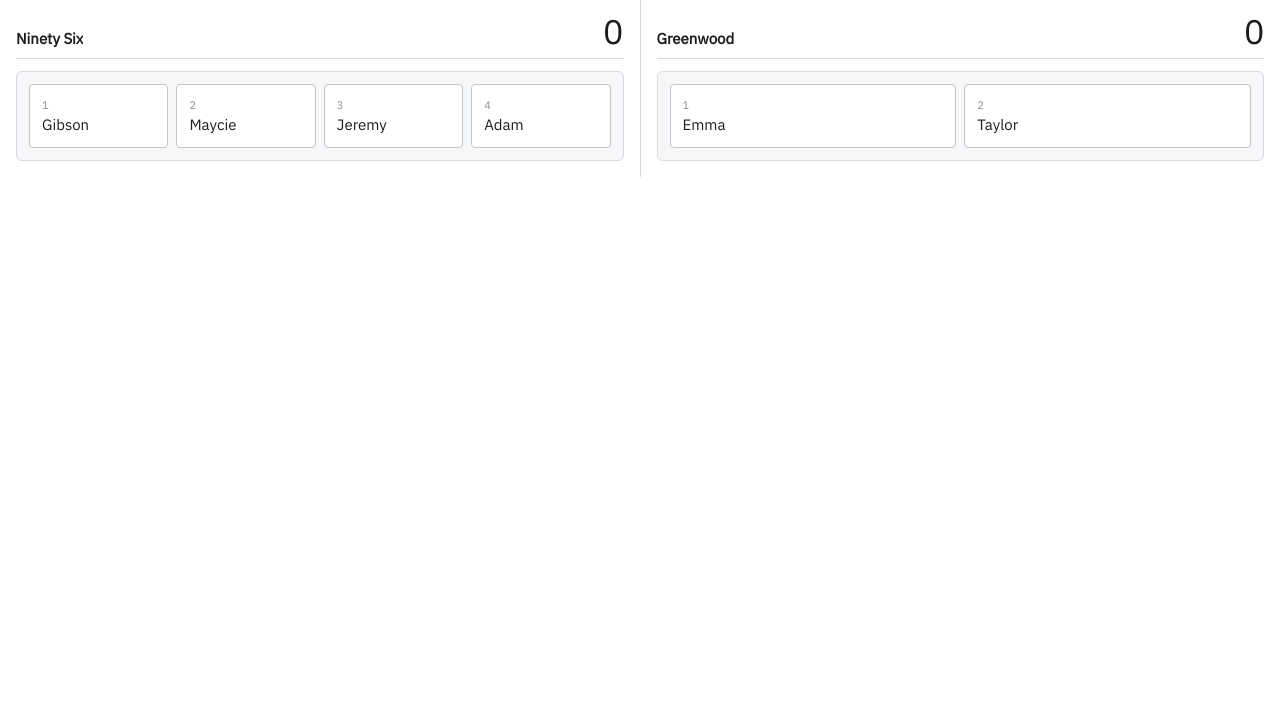
Scenario: what happens after a ruling › an accepted ruling closes the picker and marks the chair it landed in
Step 1. Click the button "2 Maycie" → [246, 116], box [176,84,316,148]
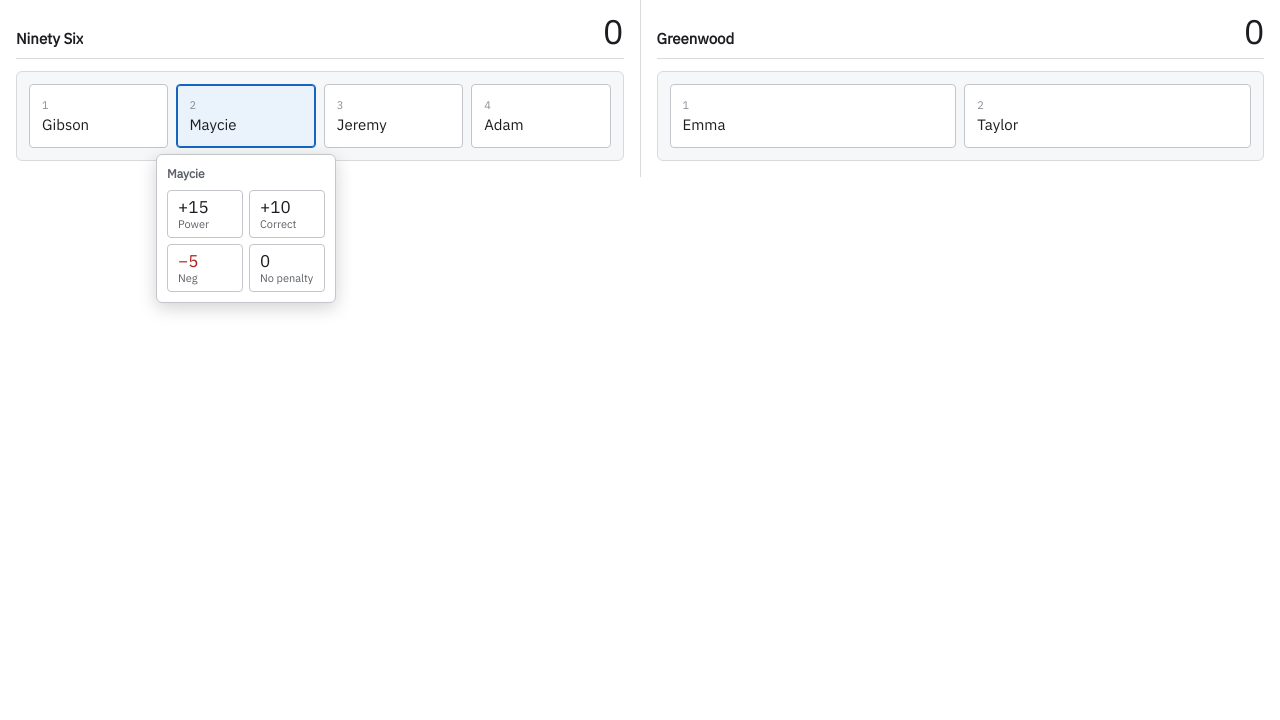
Step 2. Click the button with aria-label "Maycie 10" → [287, 214], box [249,190,325,238]
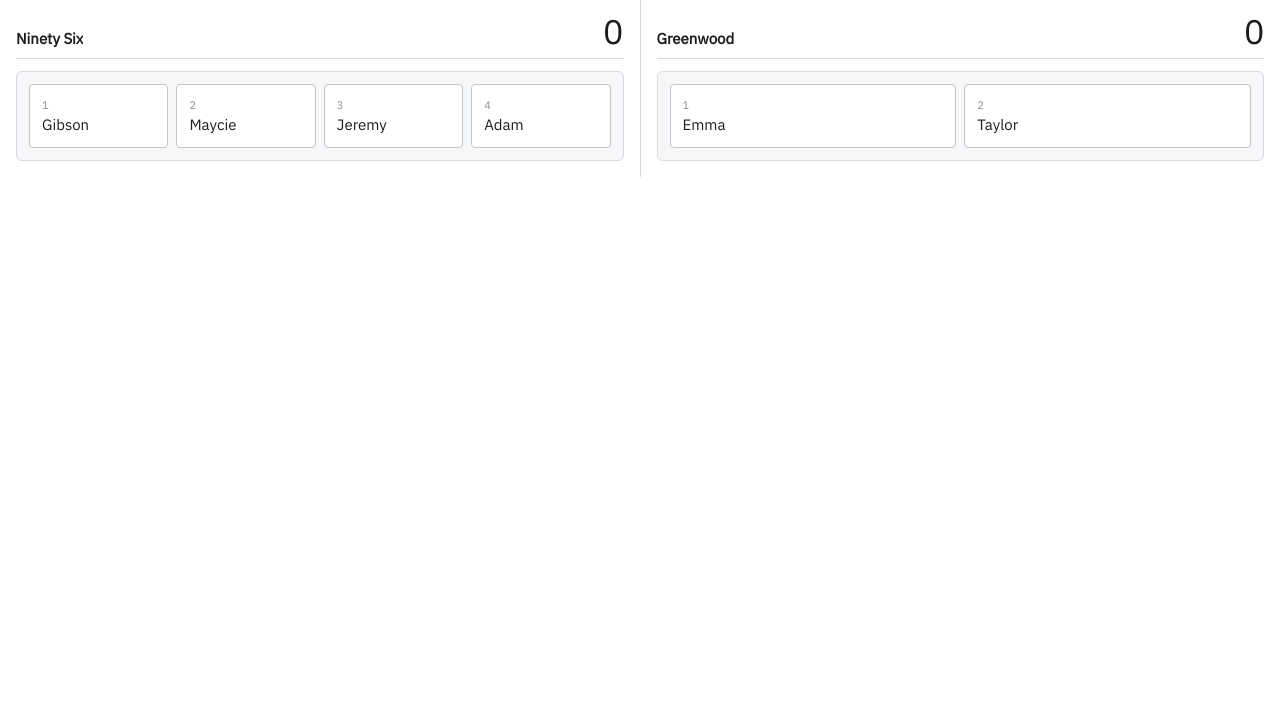
Expected: the dialog is gone
